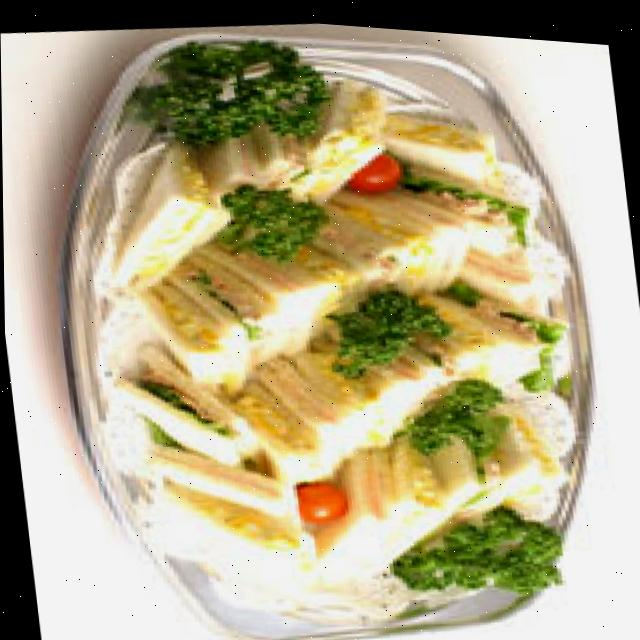三明治: (61, 4, 607, 631)
